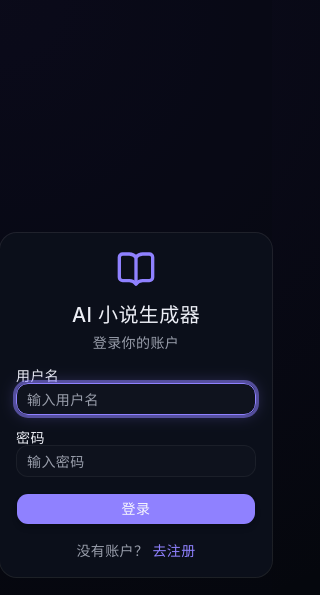
it: LoginPage › shows loading state during submission
The width and height of the screenshot is (320, 595).
Type "testuser" into the field labelled "用户名" at (136, 399), box [16,383,256,415]
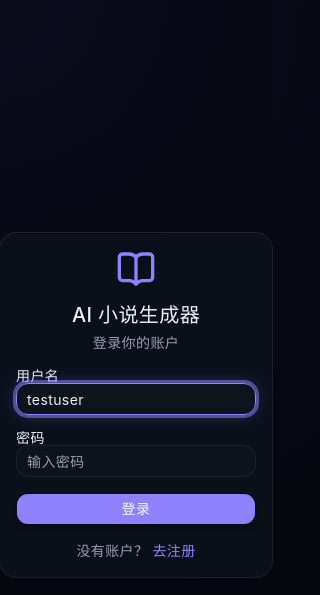
Type "password123" into the password field labelled "密码" at (136, 461), box [16,445,256,477]
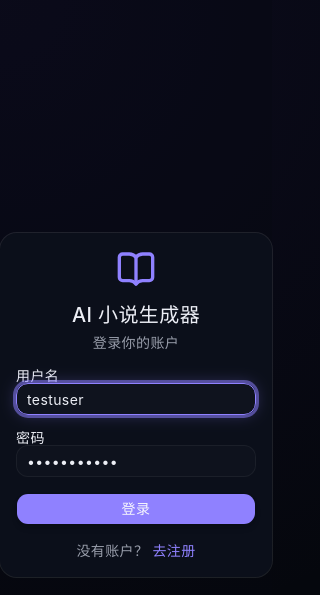
Click the button "登录" at (136, 509), box [16,493,256,525]
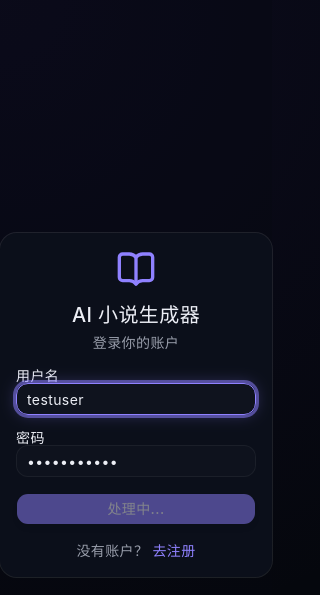
expect the button "处理中..." is shown: met, box [16,493,256,525]
